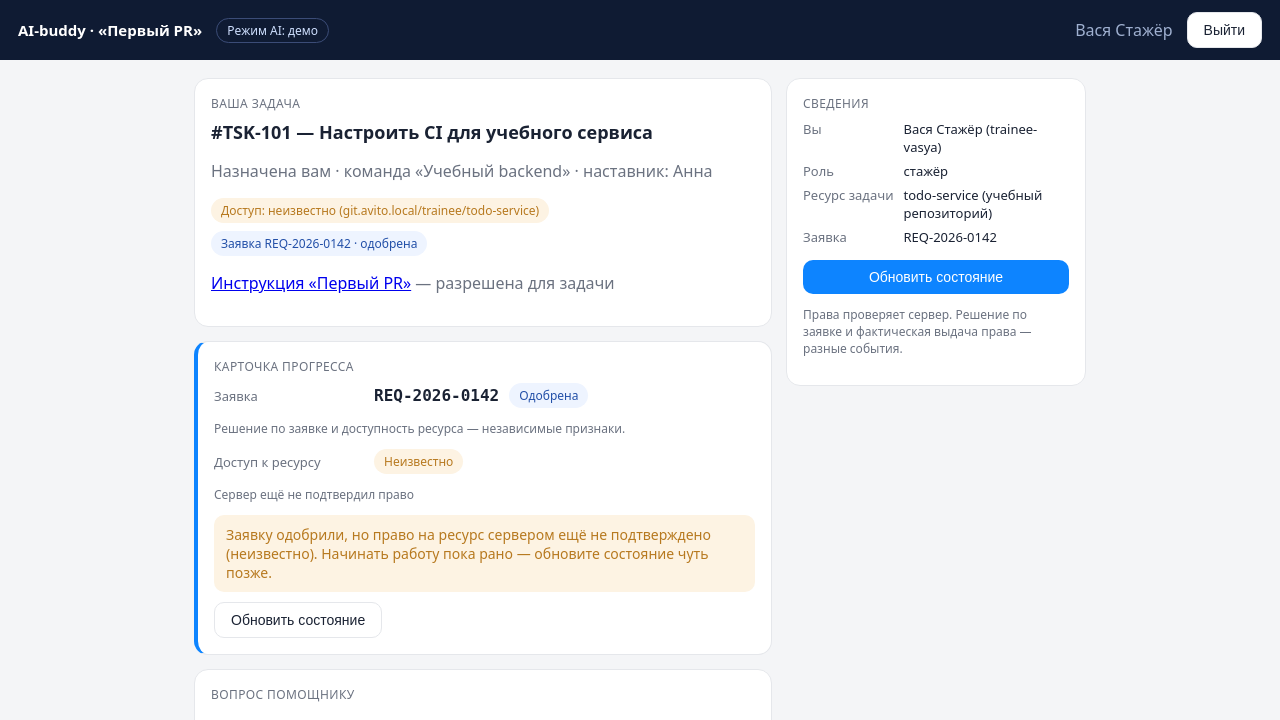
it: F4: восстановление и следующий шаг › переход approved → granted по кнопке обновления: появляется шаг из задачи и кнопка возврата
Expected: the message with test id "wait-access-note" is shown, top-left (214, 515), bottom-right (755, 592)
Click the button "Обновить состояние" below "Сервер ещё не подтвердил право": (298,620) top-left (214, 602), bottom-right (382, 638)
(page scrolled)
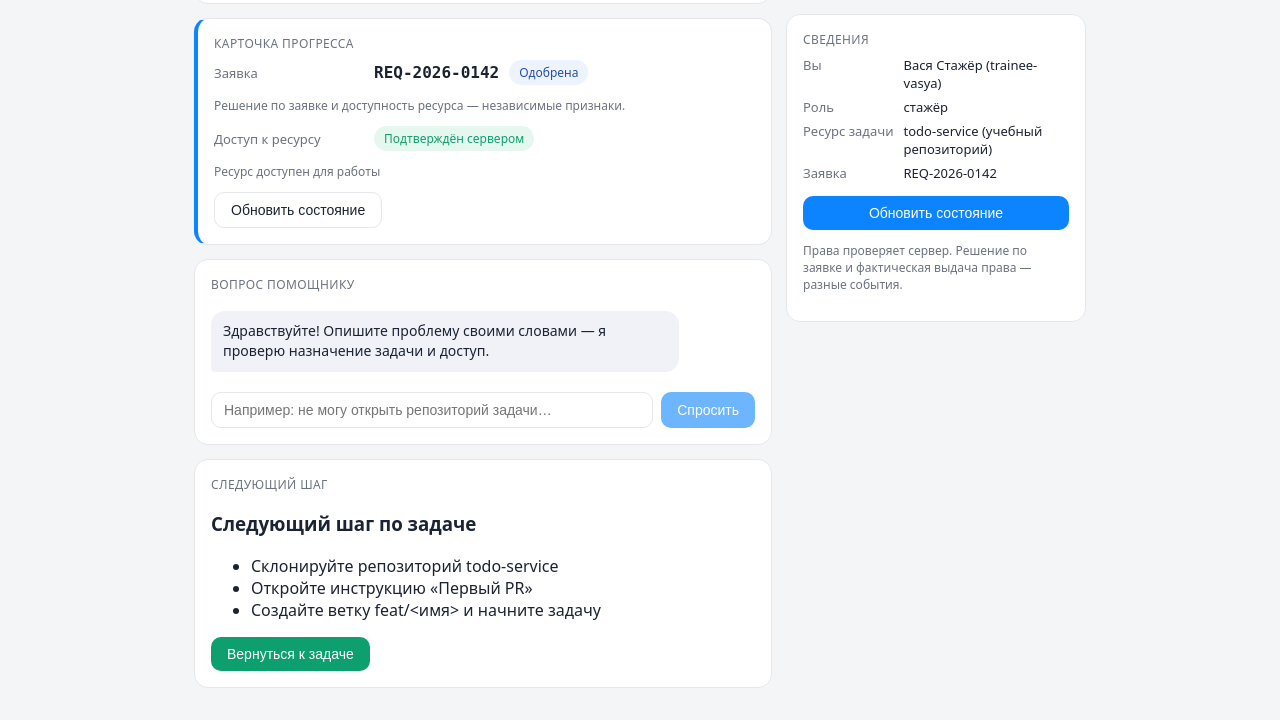
Now the button with test id "return-to-task" is shown, box top-left (211, 637), bottom-right (370, 671)
Now the heading "Следующий шаг по задаче" is shown, box top-left (211, 511), bottom-right (476, 536)
Now the list item "Склонируйте репозиторий todo-service" is shown, box top-left (251, 555), bottom-right (558, 577)
